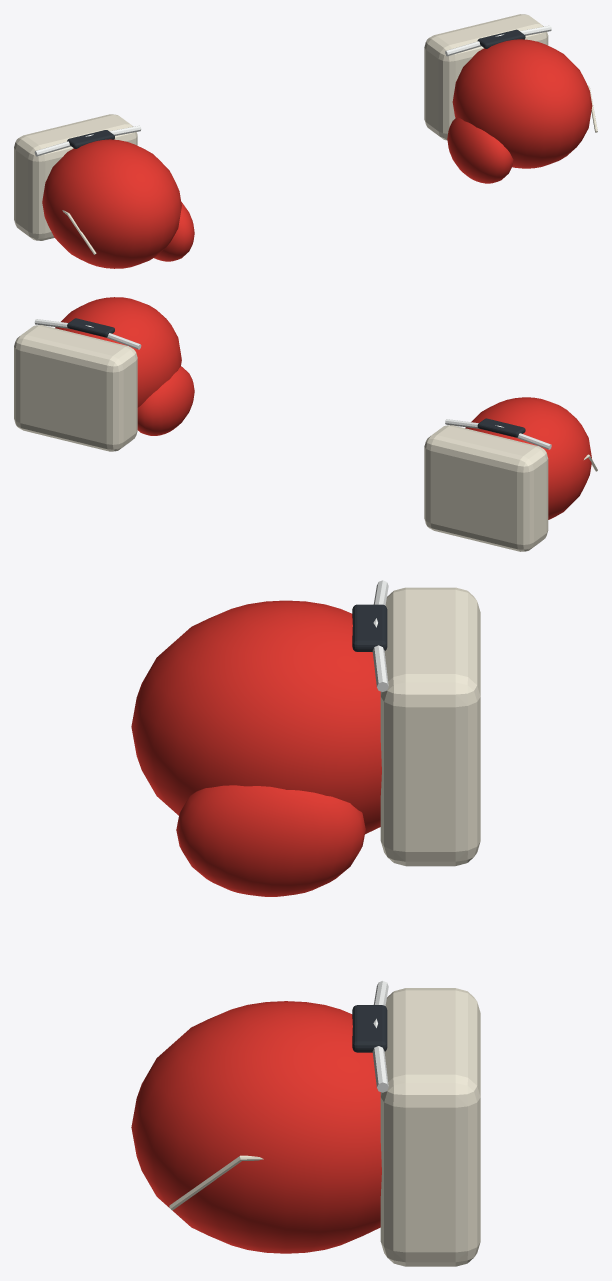
The model's file is BoxingGloves.fbx.
The picture shows the model from 3 angles, top to bottom: view 1: azimuth 30°, elevation 25°; view 2: azimuth 150°, elevation 25°; view 3: azimuth 270°, elevation 25°; orthographic projection. The views are drawn at different scales.
Visible parts, largest first — view 1: BoxingGloves_R, BoxingGloves_L; view 2: BoxingGloves_R, BoxingGloves_L; view 3: BoxingGloves_L, BoxingGloves_R.
Part boxes in pixels (x1,y1,x2,y2): BoxingGloves_R: (424, 14, 597, 183); BoxingGloves_L: (14, 114, 194, 268); BoxingGloves_R: (14, 297, 194, 451); BoxingGloves_L: (424, 397, 597, 551); BoxingGloves_L: (131, 580, 480, 896); BoxingGloves_R: (131, 981, 480, 1266).
Bounding box in the file's own units: 1.22 × 0.26 × 0.35.
